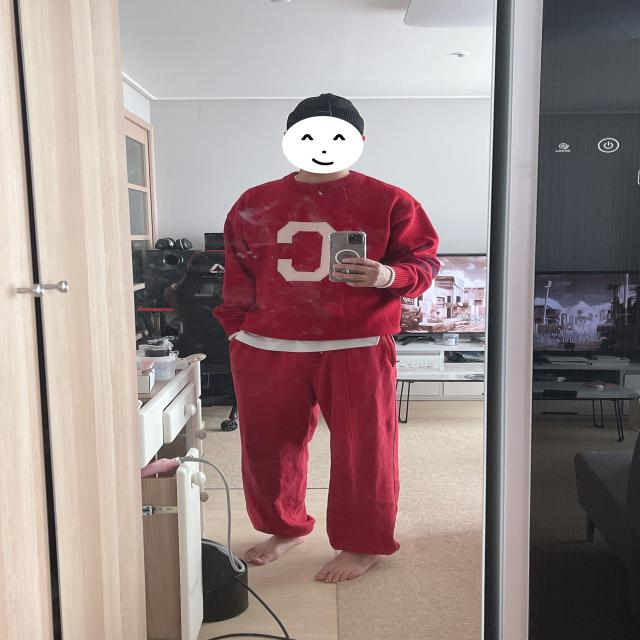mtm: (212, 174, 442, 347)
trainingpants: (230, 332, 401, 554)
